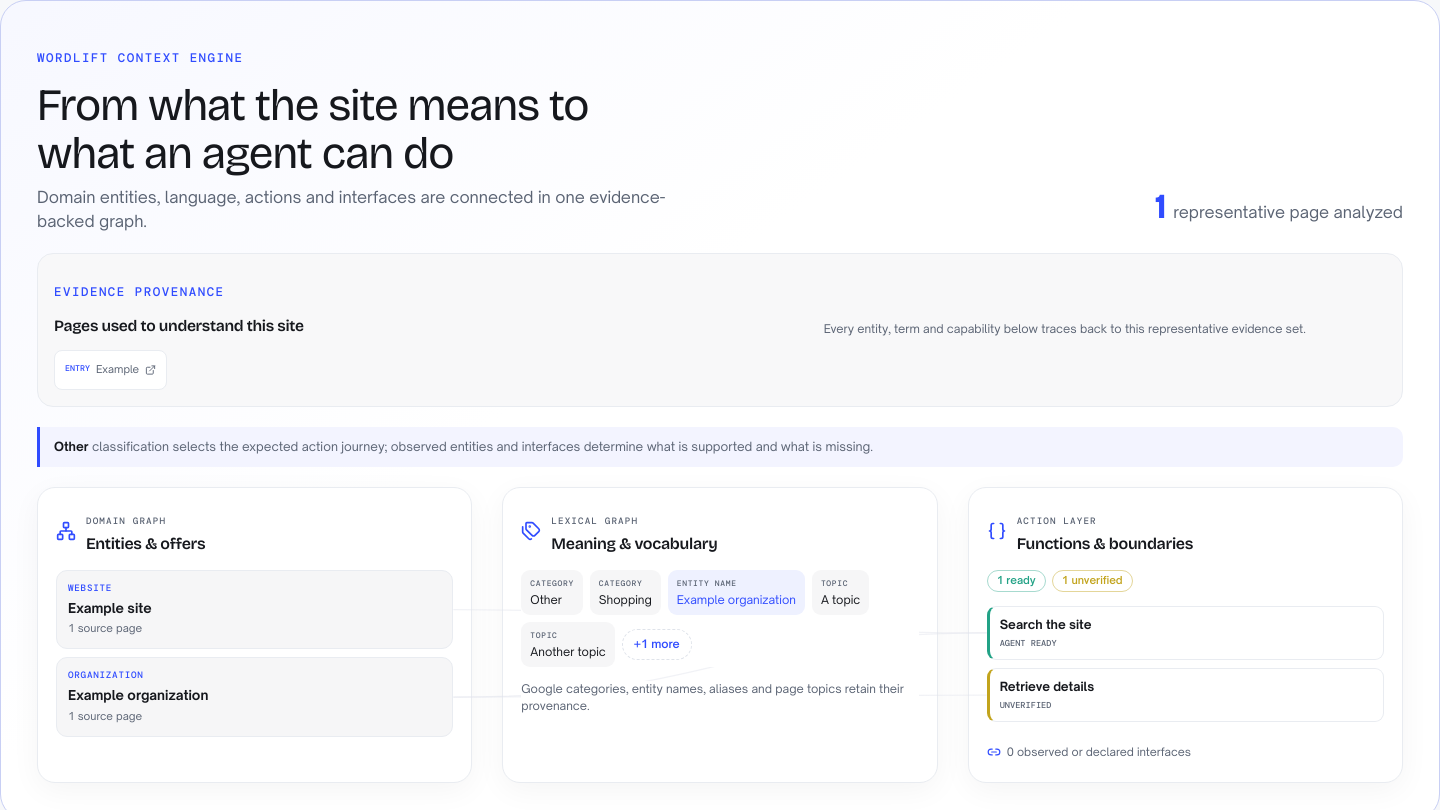
it: ContextEngineMap › deduplicates the vocabulary and folds the long tail
The width and height of the screenshot is (1440, 810).
Expected: the text "Other" is shown once, [521,570,583,615]
Click the button "+1 more" at (657, 645), box [622,629,692,660]
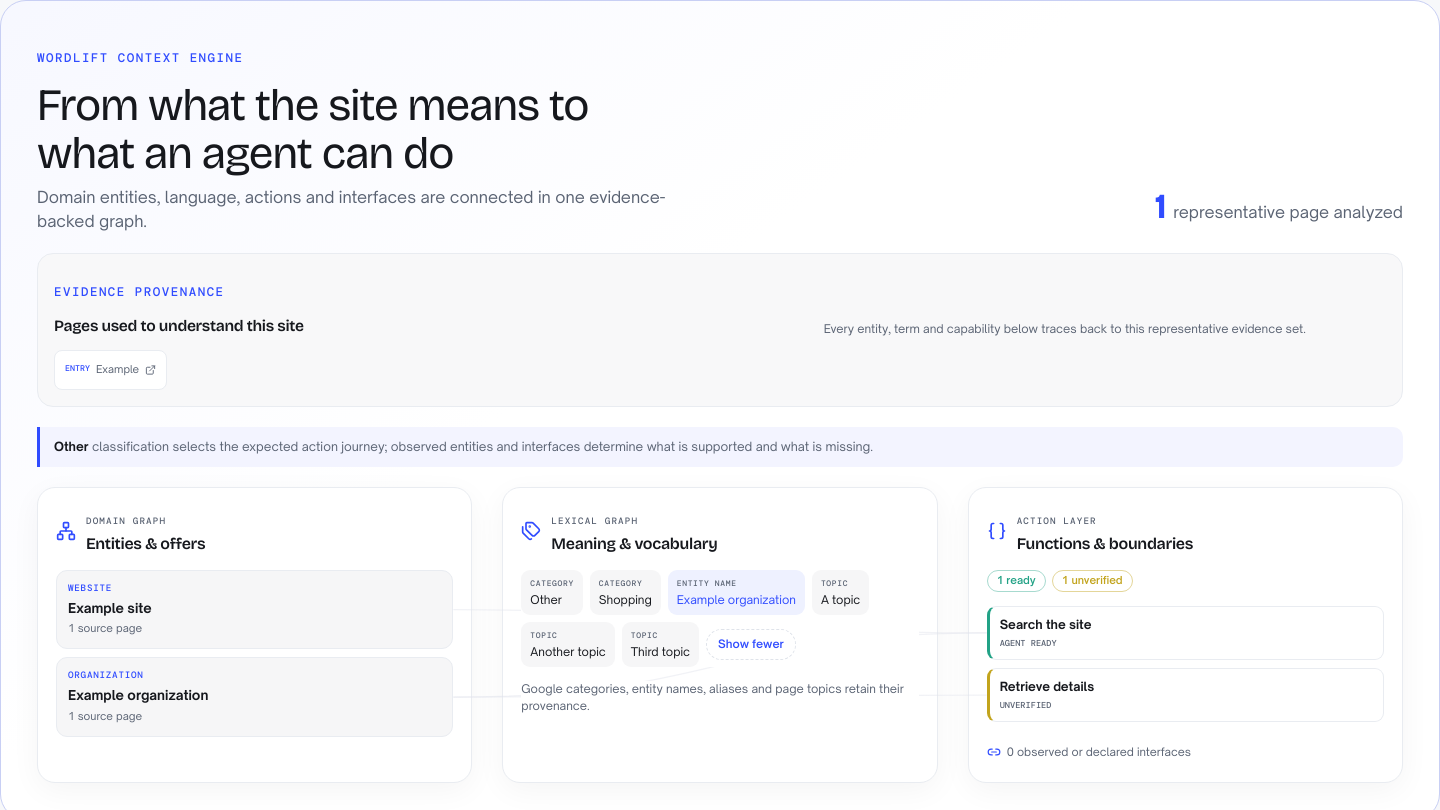
Now the text "Third topic" is shown, box [631,644,690,659]
Now the button "Show fewer" is shown, box [706,629,796,660]
